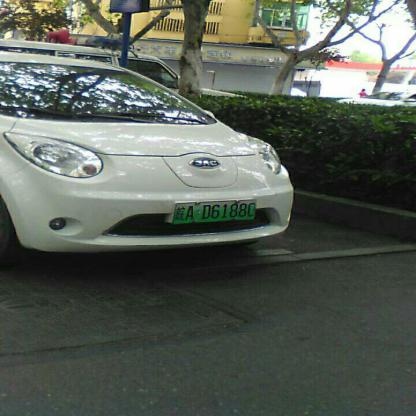lp: (172, 198, 256, 223)
